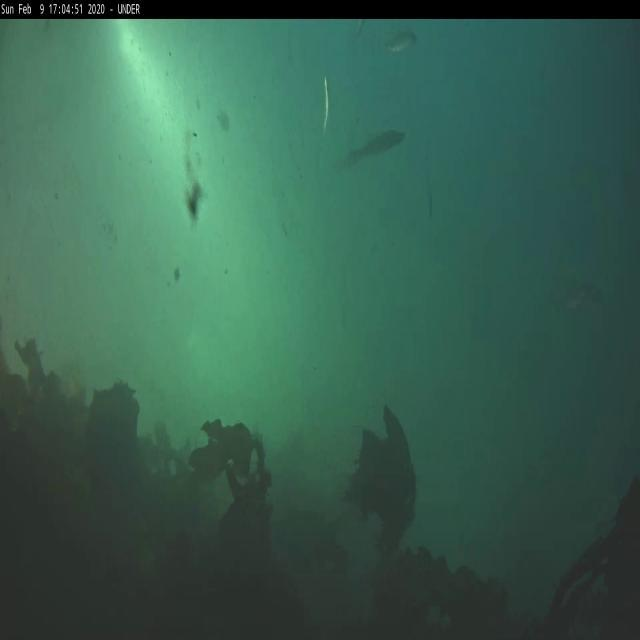fish: (348, 128, 407, 169), (318, 78, 336, 136), (387, 32, 419, 55)
